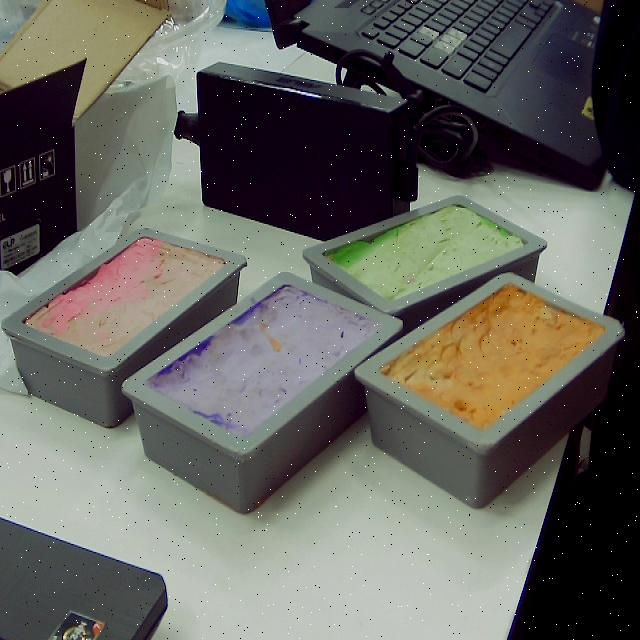block: (122, 270, 400, 512), (350, 271, 622, 510), (4, 227, 248, 429), (303, 193, 547, 339)
